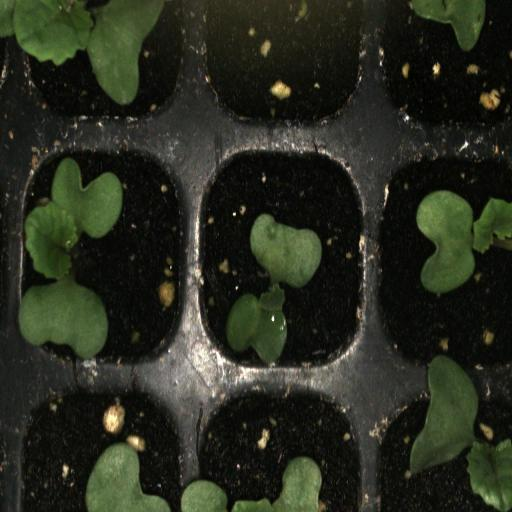seedling: (191, 130, 371, 384), (14, 132, 192, 380), (373, 142, 512, 385), (13, 0, 190, 128), (371, 381, 512, 512)
